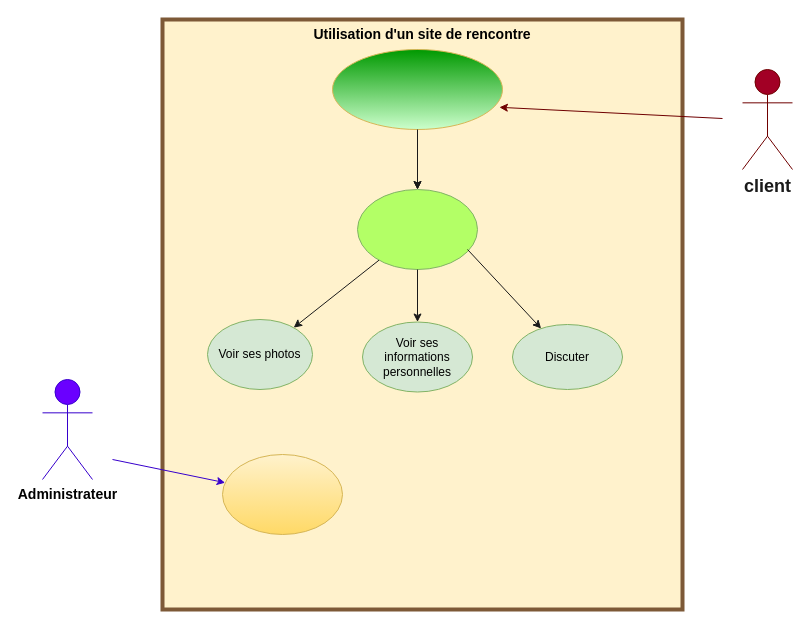
The diagram is 810 pixels wide and 628 high, and some of its shapes have lost their labels. The shapes that lost their labels are listed below. From the top down, each one's box as (x1, y1, x2, y2) in pixels, then its label:
(332, 48, 502, 130): Accéder aux profils masculins
(356, 188, 478, 270): Consulter le profil d'un homme
(222, 454, 342, 534): Maintenance des profils
